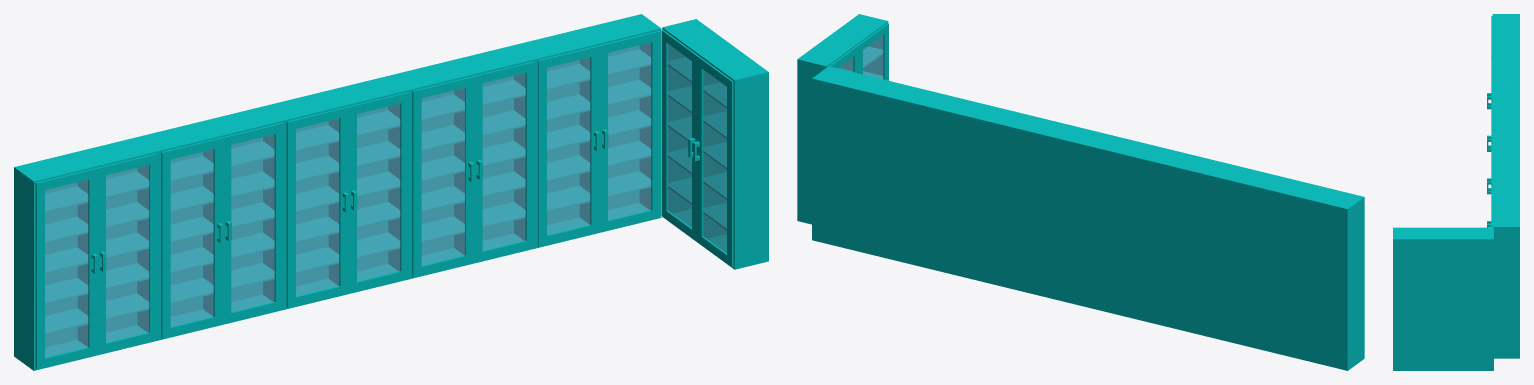
The model's file is closet.glb.
The picture shows the model from 3 angles, left to right: view 1: azimuth 30°, elevation 25°; view 2: azimuth 150°, elevation 25°; view 3: azimuth 270°, elevation 25°; orthographic projection. The views are drawn at different scales.
Parts seen in each view (by area): view 1: 3DGeom-28, 3DGeom-13, 3DGeom-23, 3DGeom-18, 3DGeom-3, 3DGeom-8, 3DGeom-7, 3DGeom-15, 3DGeom-22, 3DGeom-25, 3DGeom-30, 3DGeom-17 (+18 smaller); view 2: 3DGeom-28, 3DGeom-3, 3DGeom-13, 3DGeom-18, 3DGeom-23, 3DGeom-8, 3DGeom-10, 3DGeom-9; view 3: 3DGeom-8, 3DGeom-23, 3DGeom-18, 3DGeom-13, 3DGeom-28, 3DGeom-3.
Part boxes in pixels (bbox=[...]): 3DGeom-28: bbox=[14, 136, 159, 370]; 3DGeom-13: bbox=[265, 75, 410, 309]; 3DGeom-23: bbox=[516, 14, 661, 248]; 3DGeom-18: bbox=[140, 106, 284, 340]; 3DGeom-3: bbox=[391, 44, 535, 278]; 3DGeom-8: bbox=[662, 19, 768, 269]; 3DGeom-7: bbox=[421, 88, 464, 265]; 3DGeom-15: bbox=[357, 104, 400, 281]; 3DGeom-22: bbox=[170, 149, 213, 326]; 3DGeom-25: bbox=[608, 42, 651, 220]; 3DGeom-30: bbox=[106, 165, 149, 342]; 3DGeom-17: bbox=[296, 118, 339, 296]; 3DGeom-28: bbox=[1240, 171, 1364, 370]; 3DGeom-3: bbox=[919, 92, 1042, 292]; 3DGeom-13: bbox=[1026, 118, 1149, 318]; 3DGeom-18: bbox=[1133, 144, 1256, 344]; 3DGeom-23: bbox=[812, 66, 935, 266]; 3DGeom-8: bbox=[797, 14, 888, 224]; 3DGeom-10: bbox=[863, 36, 883, 79]; 3DGeom-9: bbox=[858, 23, 888, 80]; 3DGeom-8: bbox=[1393, 227, 1493, 370]; 3DGeom-23: bbox=[1492, 184, 1519, 358]; 3DGeom-18: bbox=[1492, 56, 1519, 99]; 3DGeom-13: bbox=[1492, 99, 1519, 141]; 3DGeom-28: bbox=[1492, 14, 1519, 56]; 3DGeom-3: bbox=[1492, 142, 1519, 184].
Bounding box in the file's own units: 7.95 × 2.17 × 1.9.
